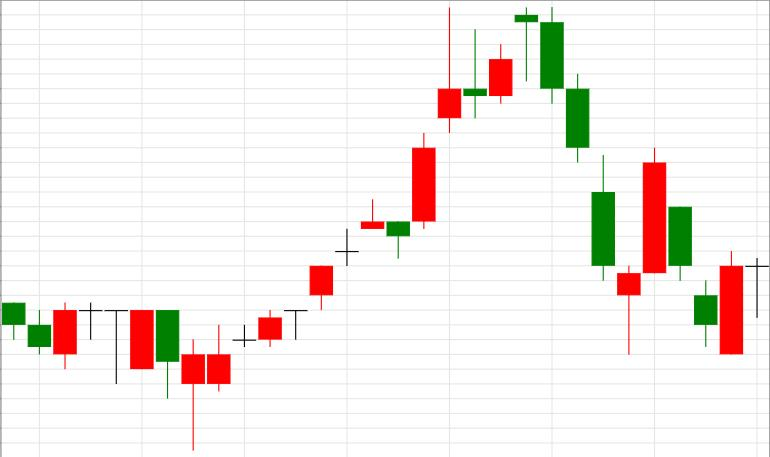morning_star_rise: (515, 7, 666, 354)
shooting_star_fall: (208, 8, 461, 392)
